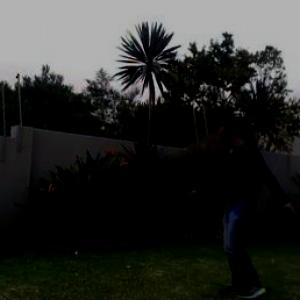land: (177, 103, 299, 299)
